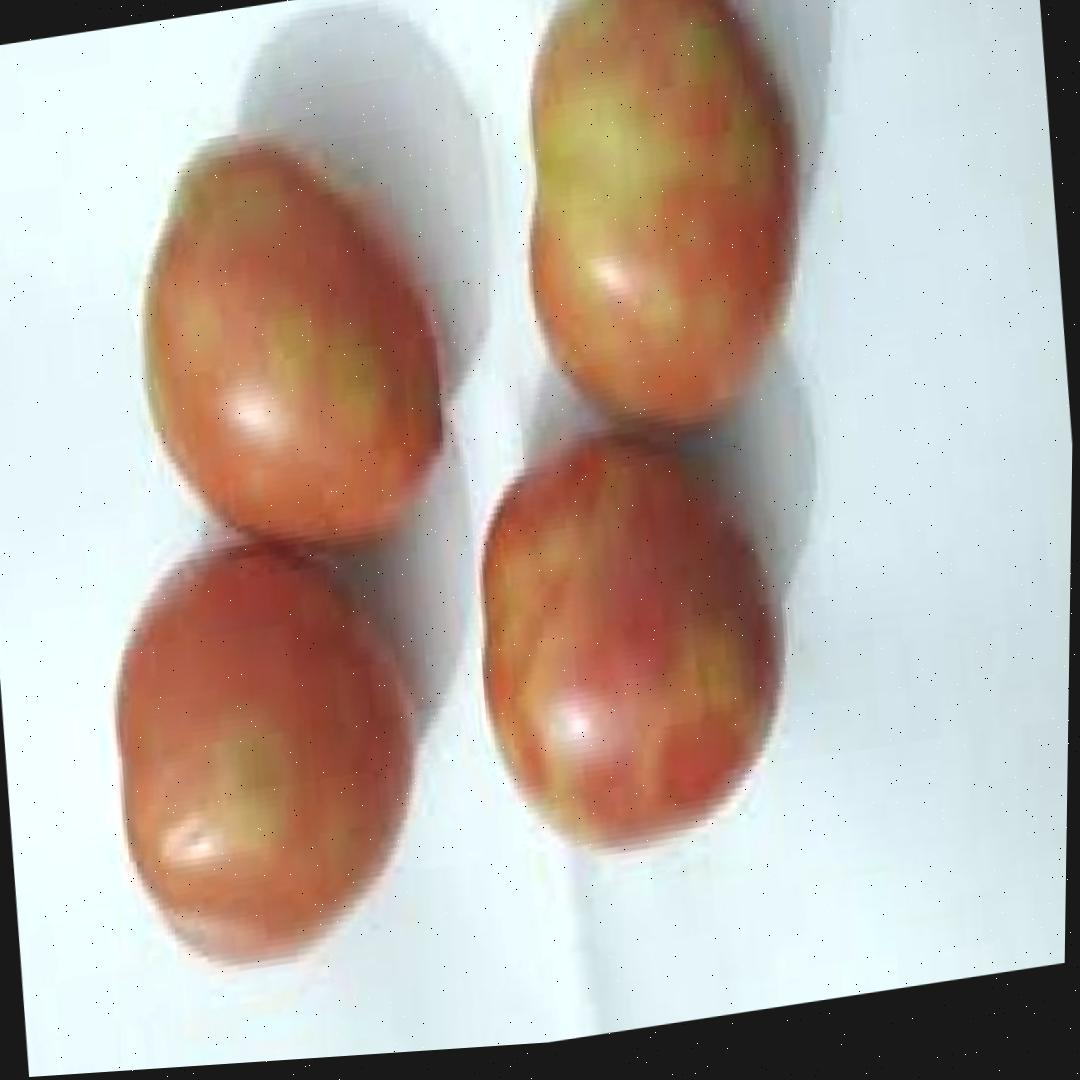setengah_matang: (111, 96, 463, 583), (89, 506, 441, 991), (448, 397, 795, 870), (491, 0, 817, 450)
